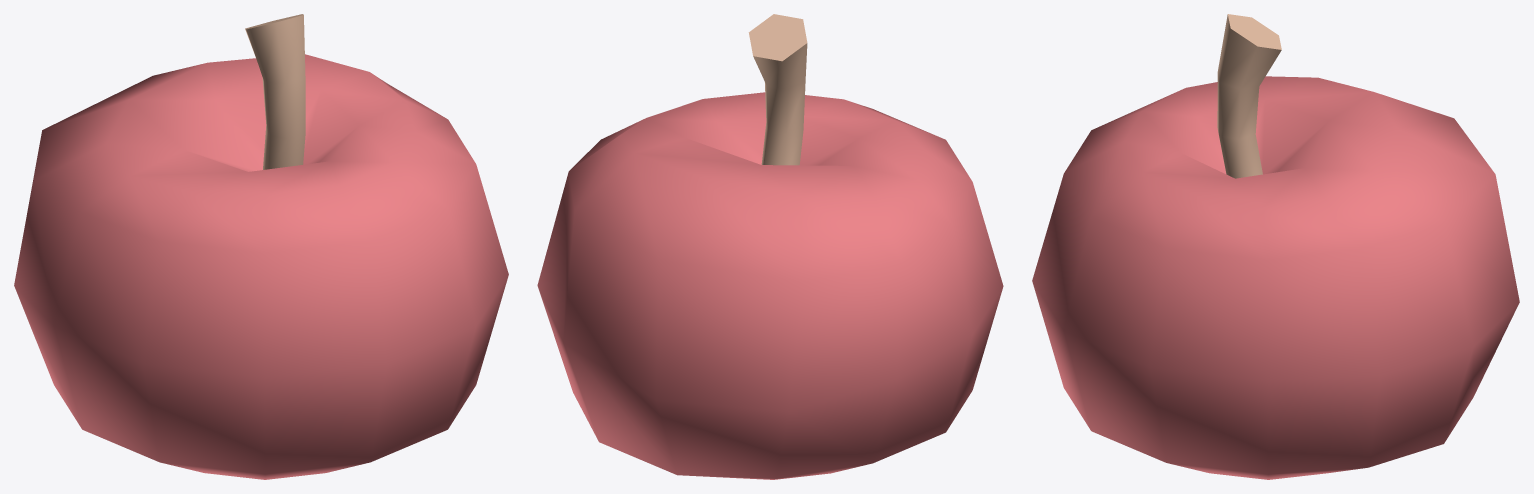
The model's file is Apple.fbx.
The picture shows the model from 3 angles, left to right: view 1: azimuth 30°, elevation 25°; view 2: azimuth 150°, elevation 25°; view 3: azimuth 270°, elevation 25°; orthographic projection. The views are drawn at different scales.
Visible parts, largest first — view 1: Apple; view 2: Apple; view 3: Apple.
Boxes of the visible parts, x1=… form: Apple: x1=14, y1=14, x2=508, y2=479; Apple: x1=537, y1=14, x2=1003, y2=479; Apple: x1=1032, y1=14, x2=1519, y2=479.
Bounding box in the file's own units: 200 × 192 × 206.
